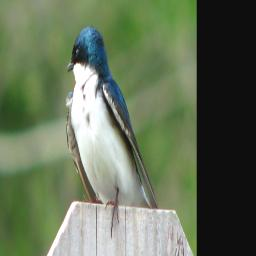Swallow: (64, 22, 160, 240)
